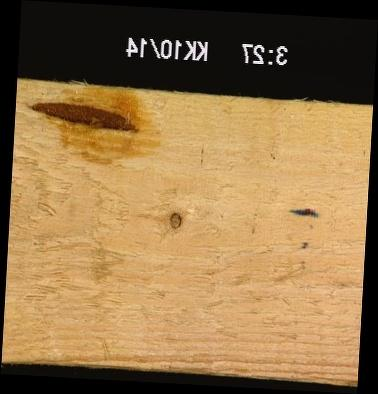dry_knot: (165, 211, 185, 231)
